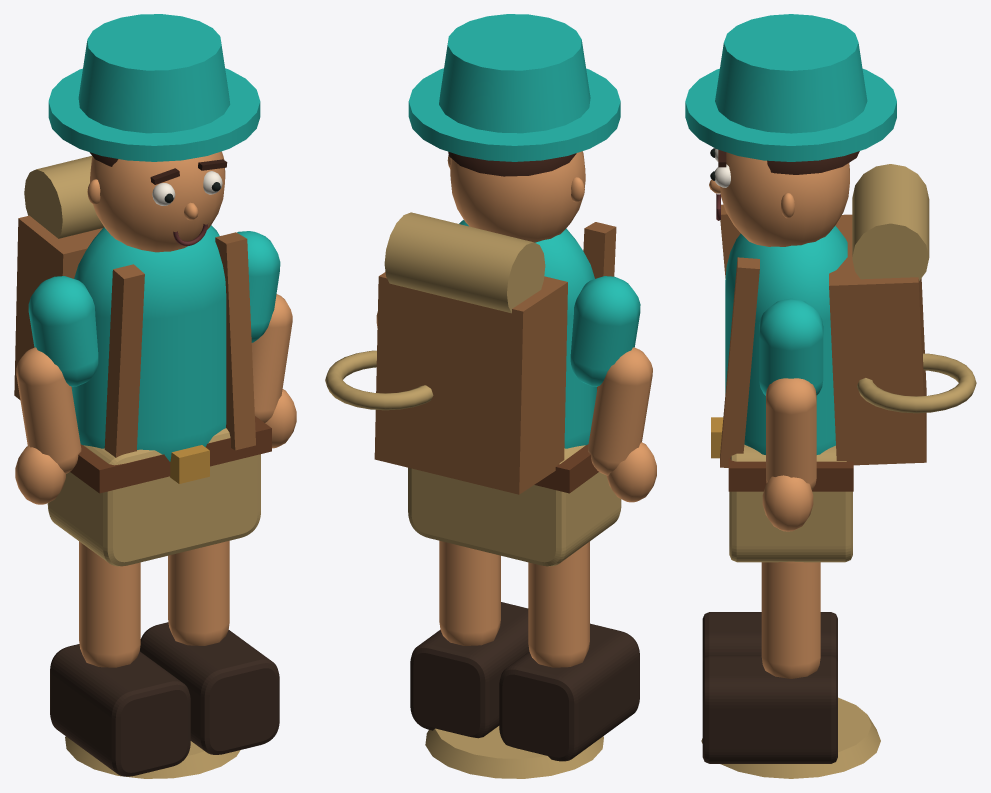
File: explorer.glb
The picture shows the model from 3 angles, left to right: view 1: azimuth 30°, elevation 25°; view 2: azimuth 150°, elevation 25°; view 3: azimuth 270°, elevation 25°; orthographic projection.
Visible parts, largest first — view 1: Explorer_PlayerColor_0, Explorer_Skin_1, Explorer_Boot_9, Explorer_Khaki_6, Explorer_LeatherLight_10, Explorer_Leather_7, Explorer_Brass_8, Explorer_Hair_2, Explorer_EyeWhite_3; view 2: Explorer_LeatherLight_10, Explorer_PlayerColor_0, Explorer_Khaki_6, Explorer_Skin_1, Explorer_Boot_9, Explorer_Hair_2, Explorer_Leather_7; view 3: Explorer_PlayerColor_0, Explorer_Skin_1, Explorer_Khaki_6, Explorer_LeatherLight_10, Explorer_Boot_9, Explorer_Leather_7, Explorer_Hair_2.
Boxes of the visible parts, <box> form: Explorer_PlayerColor_0: <box>28,14,280,461</box>; Explorer_Skin_1: <box>15,151,296,667</box>; Explorer_Boot_9: <box>50,622,279,776</box>; Explorer_Khaki_6: <box>24,156,260,778</box>; Explorer_LeatherLight_10: <box>14,215,255,457</box>; Explorer_Leather_7: <box>70,416,271,493</box>; Explorer_Brass_8: <box>170,445,209,483</box>; Explorer_Hair_2: <box>89,152,227,184</box>; Explorer_EyeWhite_3: <box>152,171,222,205</box>; Explorer_LeatherLight_10: <box>374,222,616,494</box>; Explorer_PlayerColor_0: <box>408,14,640,448</box>; Explorer_Khaki_6: <box>325,212,621,778</box>; Explorer_Skin_1: <box>376,151,656,667</box>; Explorer_Boot_9: <box>410,602,639,761</box>; Explorer_Hair_2: <box>448,151,576,176</box>; Explorer_Leather_7: <box>534,444,598,493</box>; Explorer_PlayerColor_0: <box>685,14,896,454</box>; Explorer_Skin_1: <box>709,152,849,678</box>; Explorer_Khaki_6: <box>701,164,976,778</box>; Explorer_LeatherLight_10: <box>720,204,926,467</box>; Explorer_Boot_9: <box>702,612,837,763</box>; Explorer_Leather_7: <box>728,458,853,491</box>; Explorer_Hair_2: <box>718,149,859,174</box>.
Bounding box in the file's own units: 0.9872 × 2.4 × 0.908.
